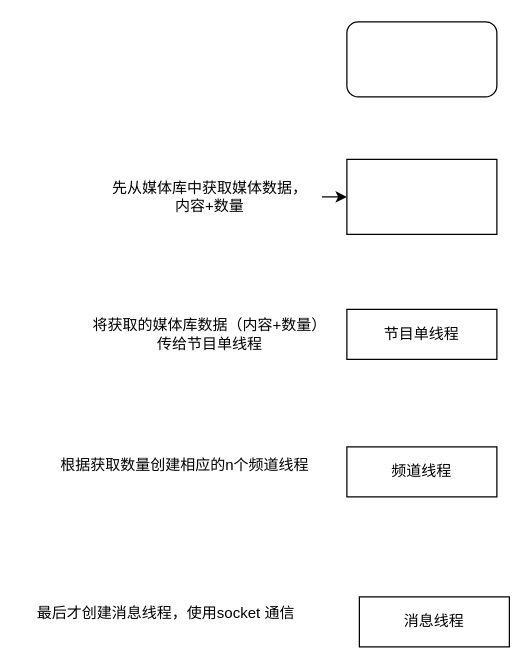
This 531x669 diagram has some shape labels left out. Here are the shapes that lost their labels. From the top down, the centre of each, then its label:
pixel 421 59: main
pixel 421 196: 媒体库
